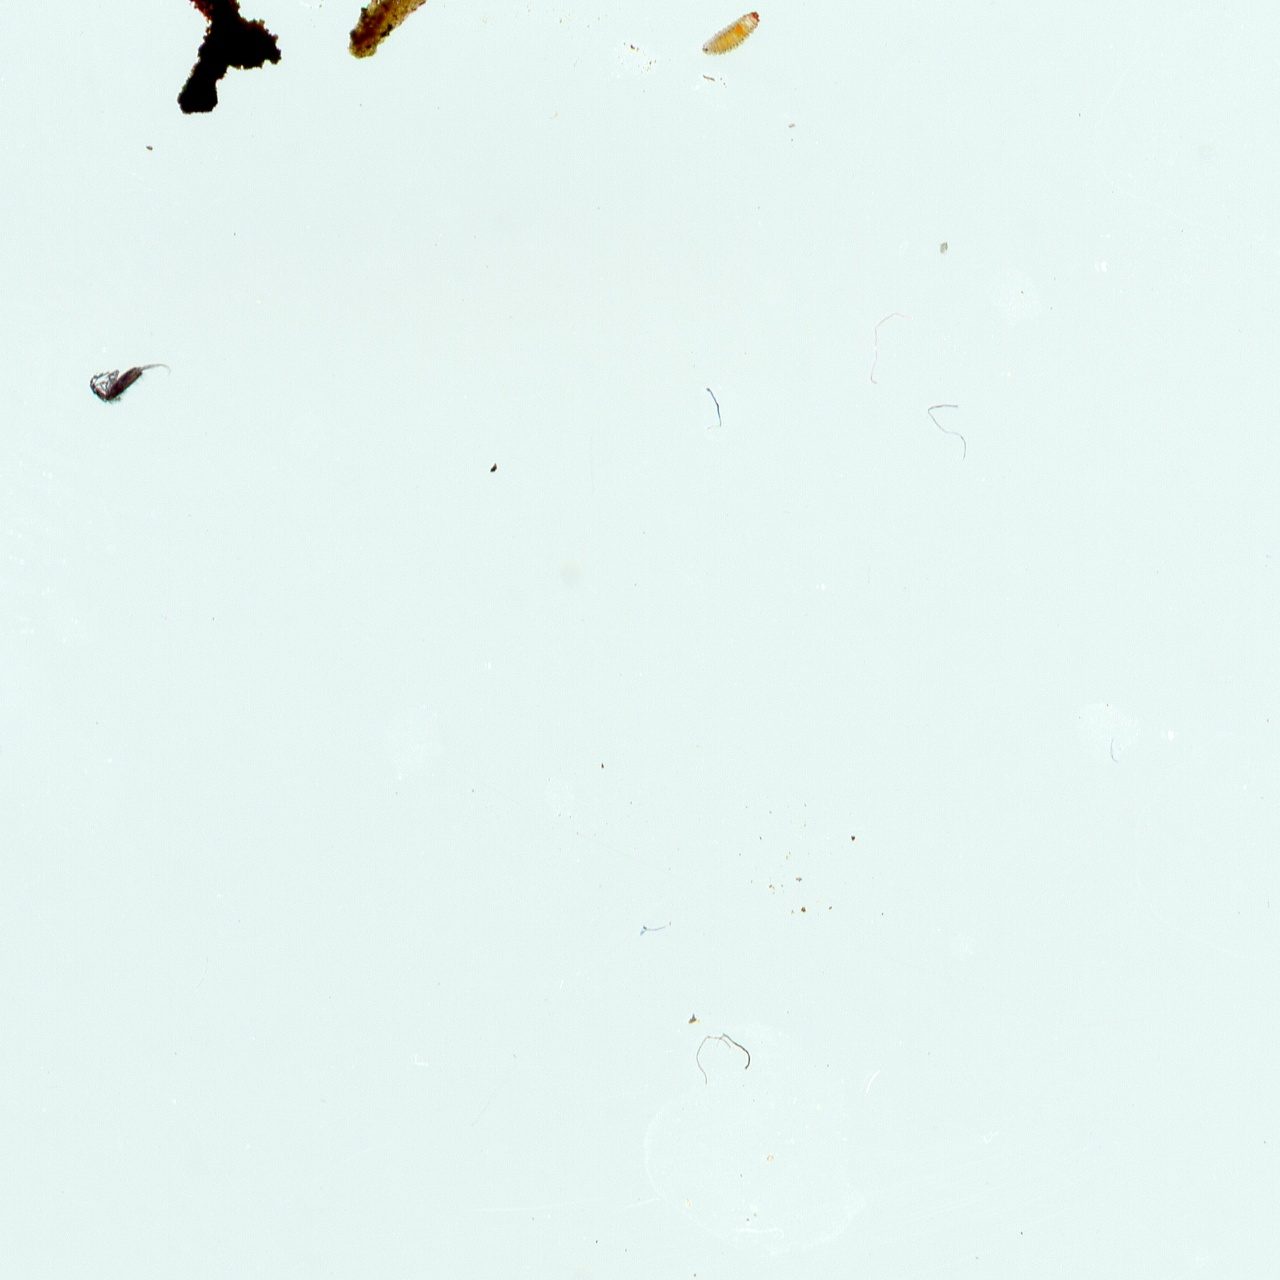arthropod: (89, 363, 172, 406), (702, 11, 760, 57)
